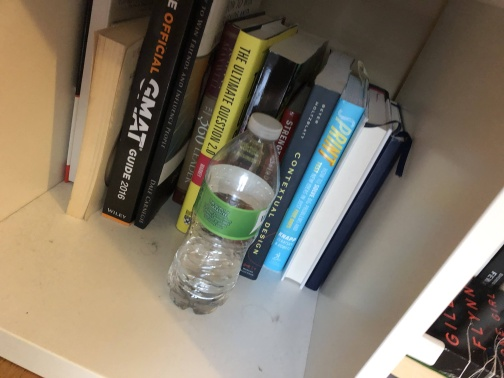bottle: (165, 111, 283, 319)
